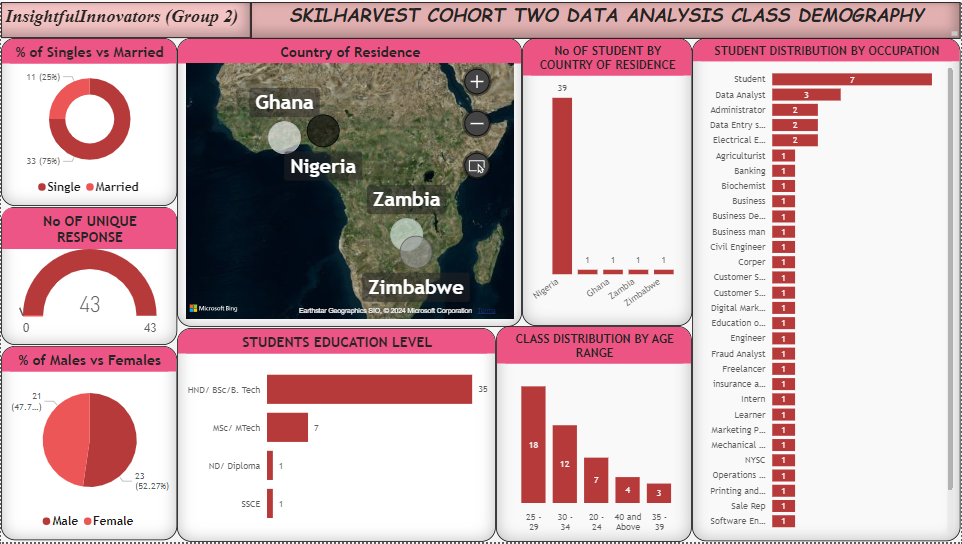

This screenshot's page, from the dashboard's own definition file:
{"tool":"powerbi","page":{"name":"Page 1","canvas":[1280,720],"ordinal":0},"visuals":[{"type":"map","fields":{"Category":["Form Responses 1.Country of Residence"]},"box":[234.7,48,460,385.3],"z":1000},{"type":"pieChart","title":"% of Males vs Females","fields":{"Category":["Form Responses 1.Gender"],"Y":["CountNonNull(Form Responses 1.Gender)"]},"box":[0,458.7,234.7,258.7],"z":2000},{"type":"donutChart","title":"% of Singles vs Married","fields":{"Y":["CountNonNull(Form Responses 1.Marital Status)"],"Category":["Form Responses 1.Marital Status"]},"box":[0,48,234.7,224],"z":3000},{"type":"textbox","title":"SKILHARVEST COHORT TWO DATA ANALYSIS CLASS DEMOGRAPHY","box":[333.9,0,946.1,48.5],"z":4000},{"type":"textbox","box":[0,0,333.3,48],"z":5000},{"type":"clusteredColumnChart","title":"CLASS DISTRIBUTION BY AGE RANGE","fields":{"Category":["Form Responses 1.Age Range"],"Y":["CountNonNull(Form Responses 1.Age Range)"]},"box":[660,432,261.3,288],"z":6000},{"type":"gauge","title":"No OF UNIQUE RESPONSE","fields":{"Y":["Count(Form Responses 1.Names)"],"MaxValue":["Count(Form Responses 1.Names)"]},"box":[0,273.3,234.7,184],"z":7000},{"type":"clusteredBarChart","title":"STUDENTS EDUCATION LEVEL","fields":{"Category":["Form Responses 1.Highest level of Education"],"Y":["CountNonNull(Form Responses 1.Highest level of Education)"]},"box":[234.7,434.7,425.3,285.3],"z":8000},{"type":"clusteredBarChart","title":"STUDENT DISTRIBUTION BY OCCUPATION","fields":{"Category":["Form Responses 1.Occupation"],"Y":["CountNonNull(Form Responses 1.Occupation)"]},"box":[921.8,48.5,358.2,670.7],"z":9000},{"type":"clusteredColumnChart","title":"No OF STUDENT BY COUNTRY OF RESIDENCE","fields":{"Category":["Form Responses 1.Country of Residence"],"Y":["Count(Form Responses 1.Names)"]},"box":[694.7,48,226.7,384],"z":9001}]}

Visuals, with their boxes in screenshot pixels (x1, y1, x2, y2), scaled from the page's 1280x720 canvas onto the 962x544 screenshot:
map - Form Responses 1.Country of Residence: <region>176, 36, 522, 327</region>
"% of Males vs Females" pieChart: <region>0, 347, 176, 542</region>
"% of Singles vs Married" donutChart: <region>0, 36, 176, 206</region>
"SKILHARVEST COHORT TWO DATA ANALYSIS CLASS DEMOGRAPHY" textbox: <region>251, 0, 961, 37</region>
textbox: <region>0, 0, 250, 36</region>
"CLASS DISTRIBUTION BY AGE RANGE" clusteredColumnChart: <region>496, 326, 692, 543</region>
"No OF UNIQUE RESPONSE" gauge: <region>0, 206, 176, 346</region>
"STUDENTS EDUCATION LEVEL" clusteredBarChart: <region>176, 328, 496, 543</region>
"STUDENT DISTRIBUTION BY OCCUPATION" clusteredBarChart: <region>693, 37, 961, 543</region>
"No OF STUDENT BY COUNTRY OF RESIDENCE" clusteredColumnChart: <region>522, 36, 692, 326</region>
